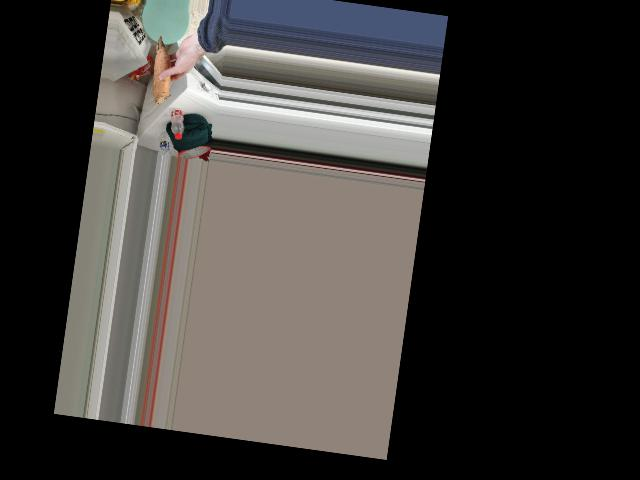sweet_potato: (151, 39, 178, 108)
